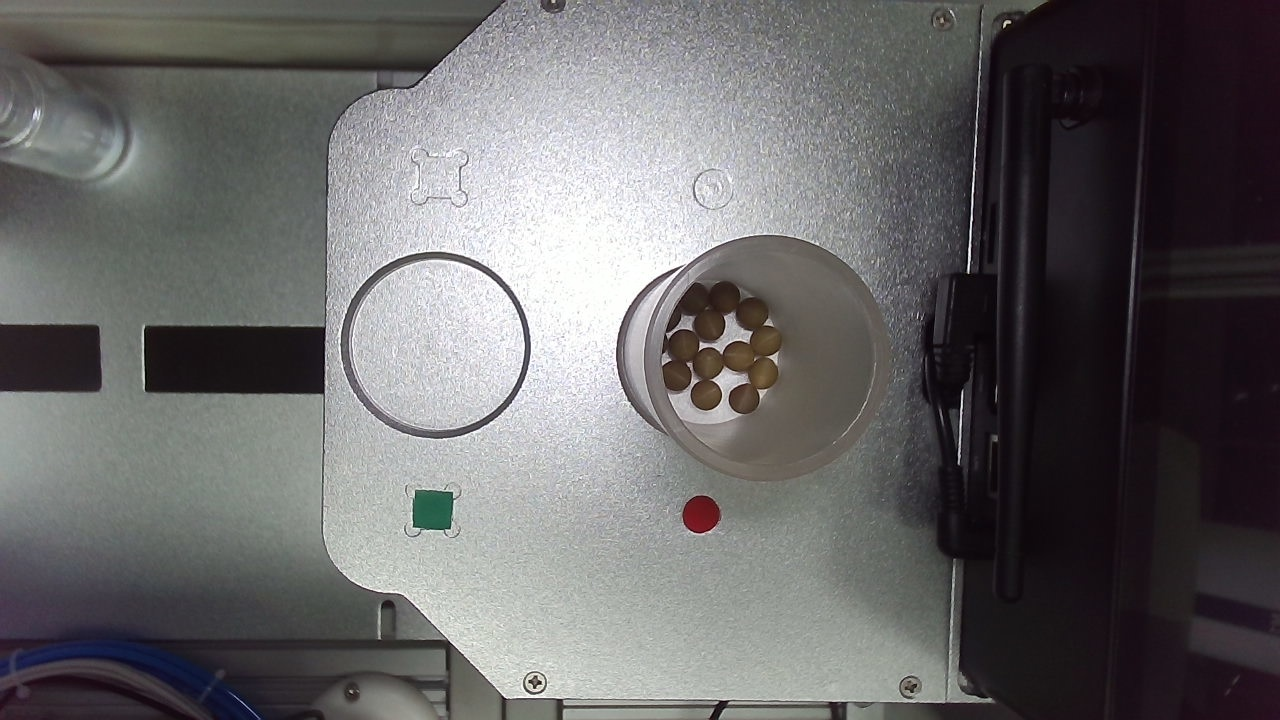transparenexcept: (472, 392, 685, 602)
